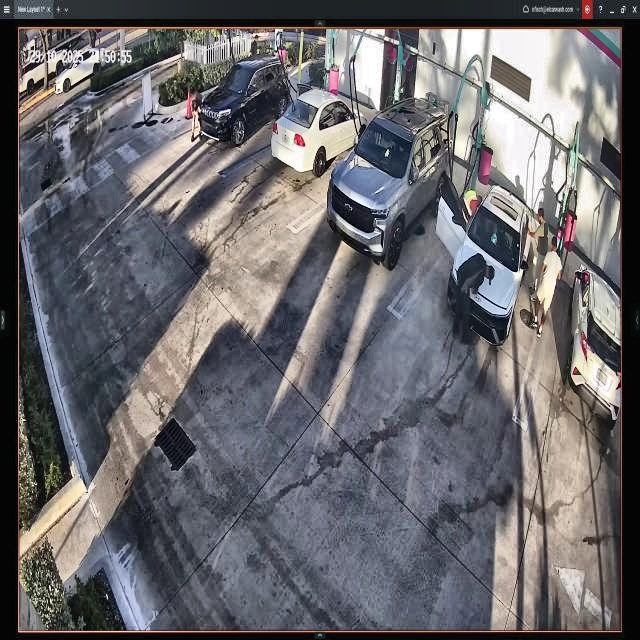Car: (329, 99, 454, 263), (442, 174, 530, 346), (274, 89, 366, 176), (199, 58, 289, 146)
